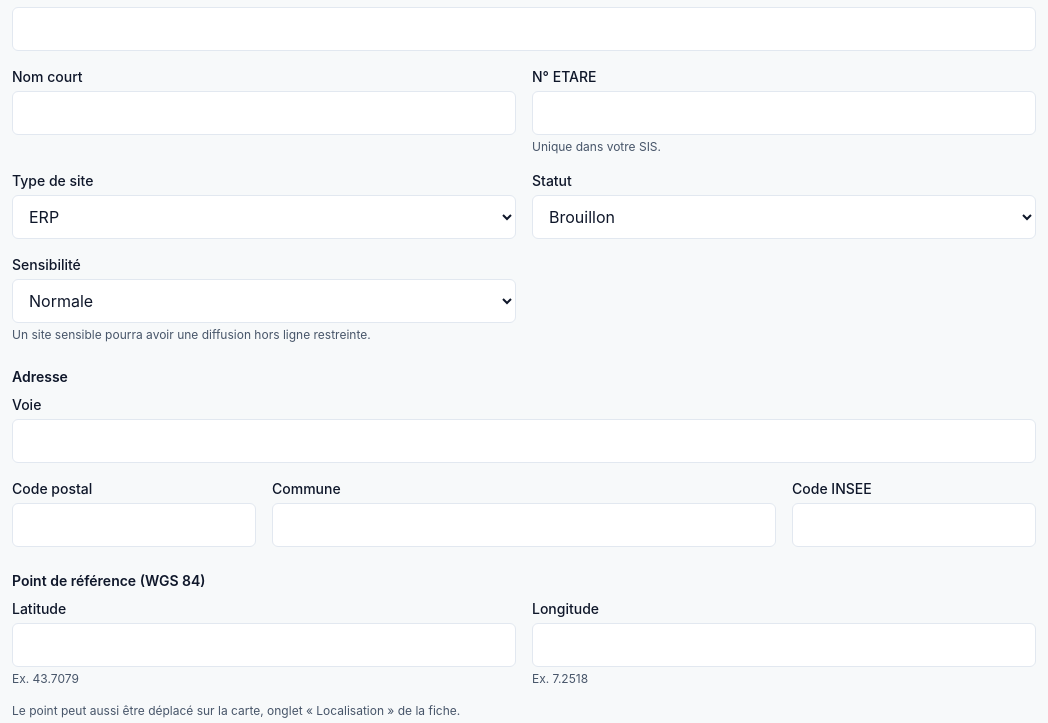
Test: SiteForm › validates before submitting
In the field labelled "Code postal": (134, 525) [12,503,256,547], type "6000"
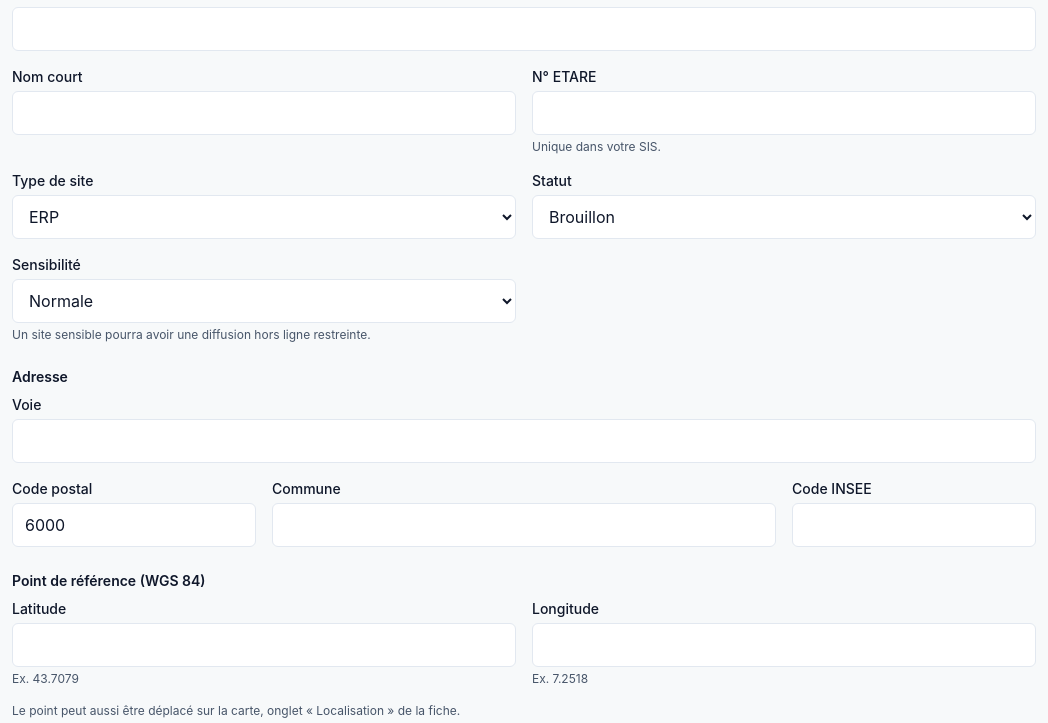
In the field labelled "Latitude": (264, 645) [12,623,516,667], type "43.7"
(page scrolled)
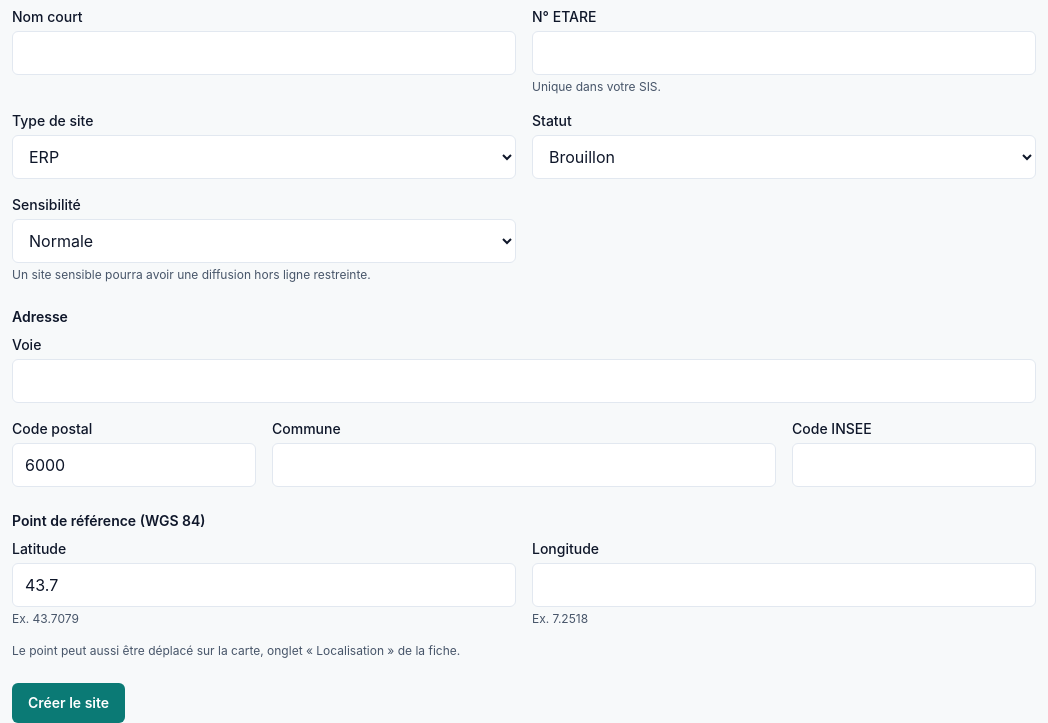
Click the button "Créer le site": (69, 703) [12,683,125,722]
(page scrolled)
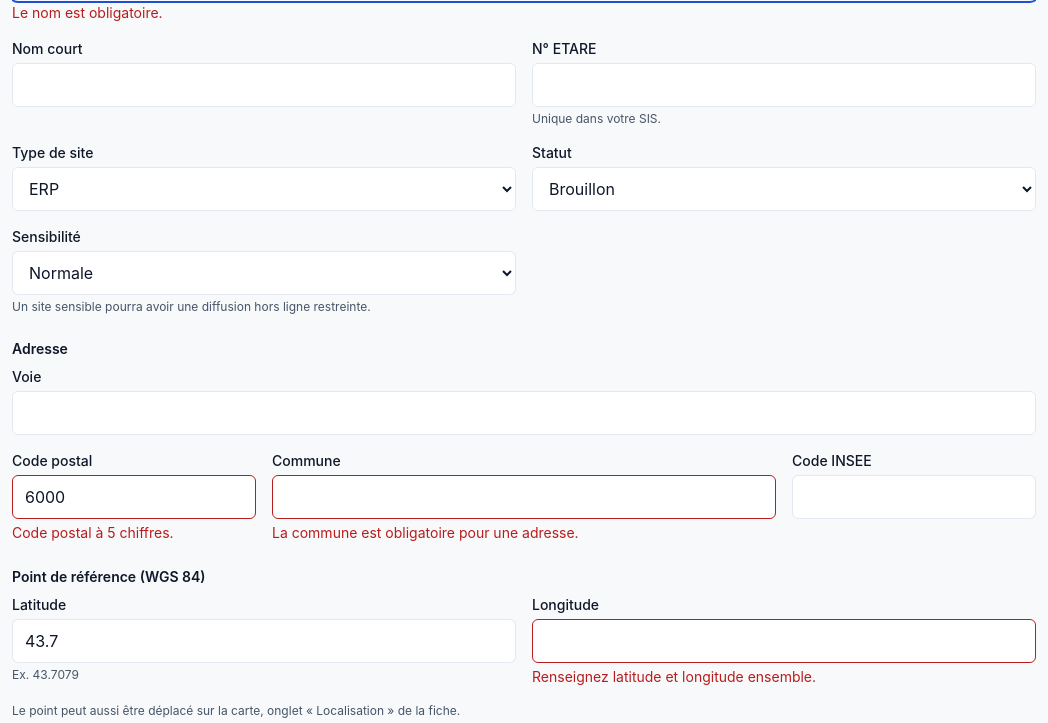
Result: the text "Le nom est obligatoire." is shown at [12,4,163,21]
Result: the text "Code postal à 5 chiffres." is shown at [12,524,174,541]
Result: the text "Renseignez latitude et longitude ensemble." is shown at [532,668,816,685]
